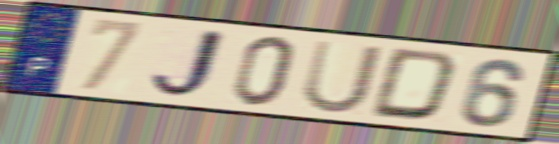0: (229, 33, 300, 108)
6: (457, 55, 527, 129)
7: (78, 16, 150, 94)
D: (366, 46, 462, 123)
J: (146, 25, 230, 102)
U: (298, 37, 386, 116)
